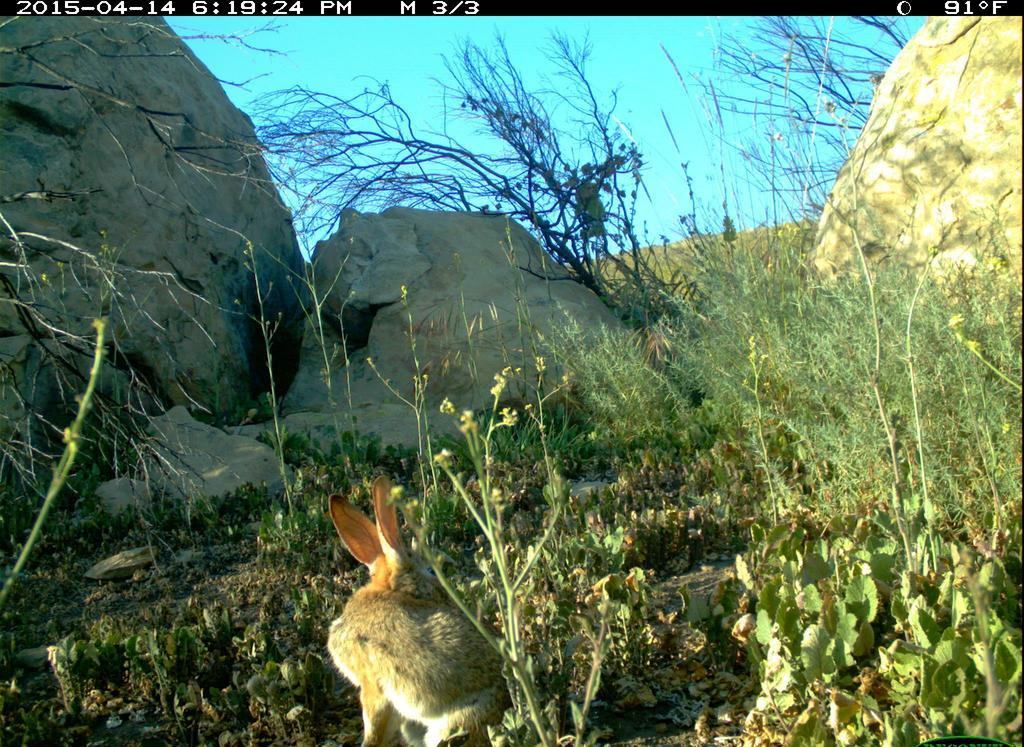rabbit: (301, 473, 515, 747)
